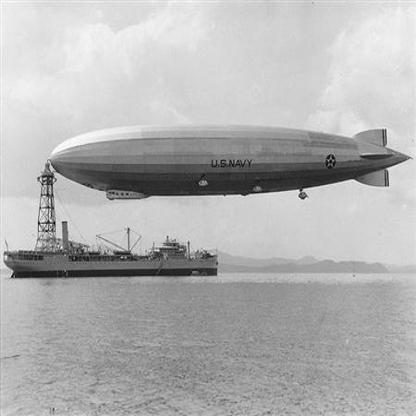Airship: (48, 126, 412, 205)
